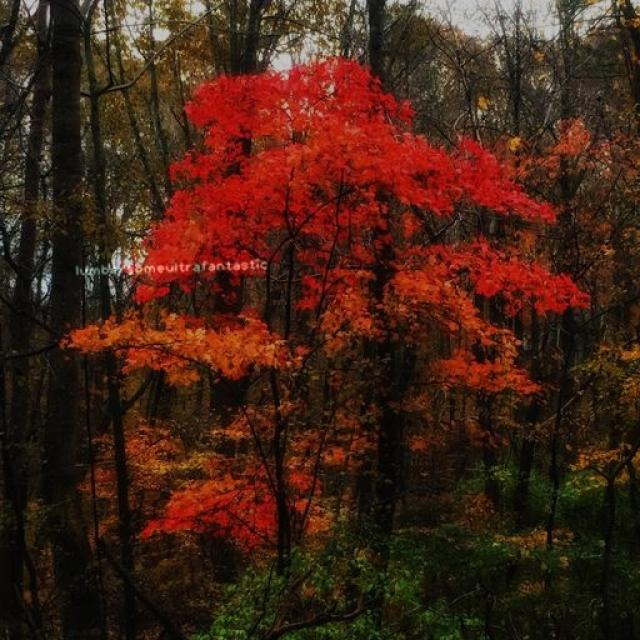watermark: (71, 257, 267, 277)
